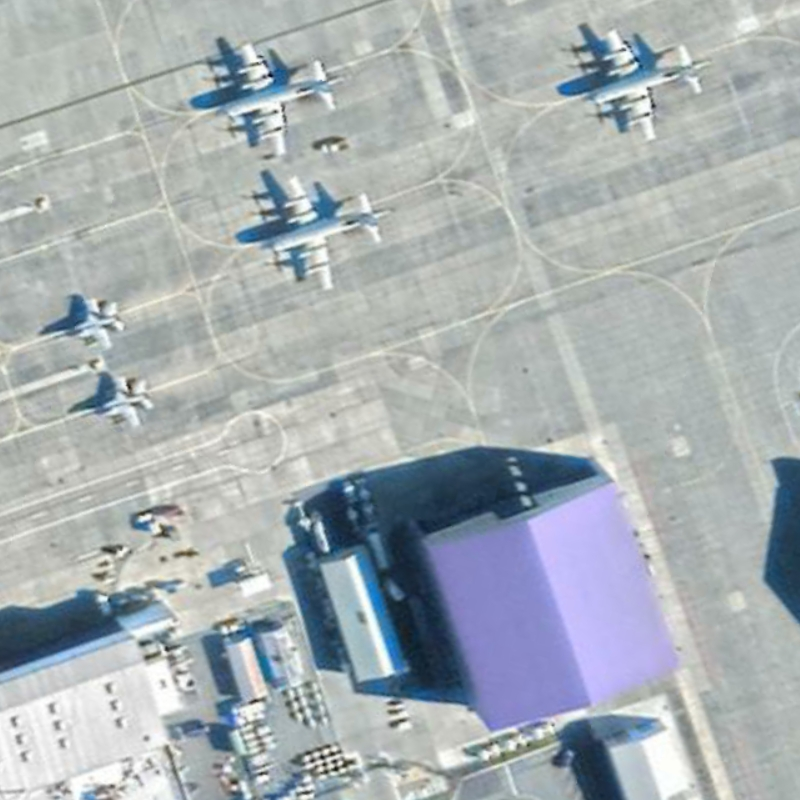A16: (68, 368, 165, 436), (46, 288, 135, 354)
A9: (198, 33, 352, 166), (247, 169, 401, 301), (573, 17, 717, 146)
